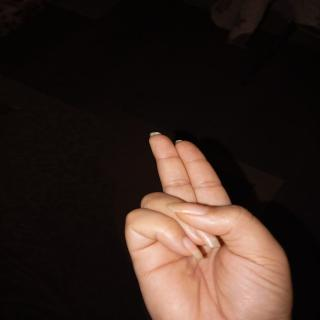TA: (113, 124, 320, 320)
